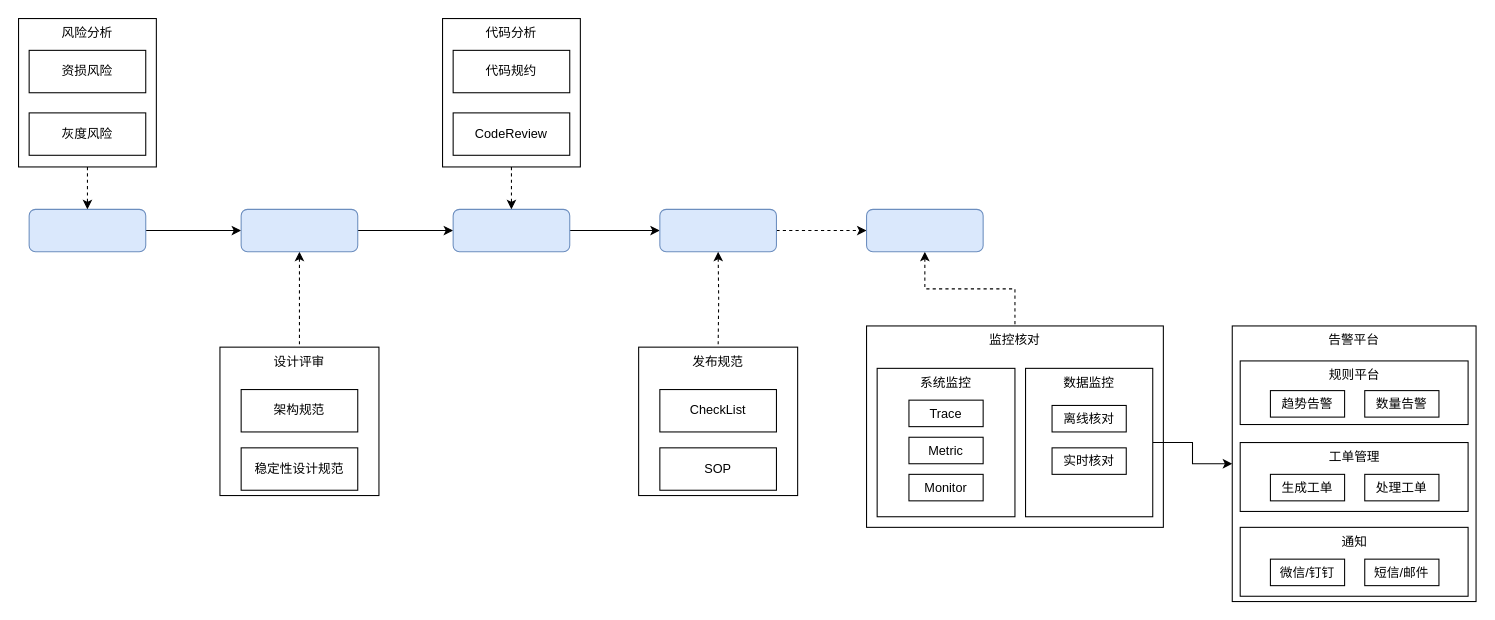
Image size: 1495x620. Some labels were removed from this diagram. Here are the shapes that lost their labels. From the top down, the centre of each, then its label:
(87,230): 需求评审
(299,230): 系分设计
(511,230): 编码
(717,230): 发布
(924,230): 维护
